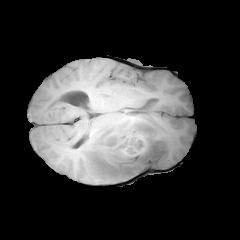glioma: (79, 110, 166, 183)
